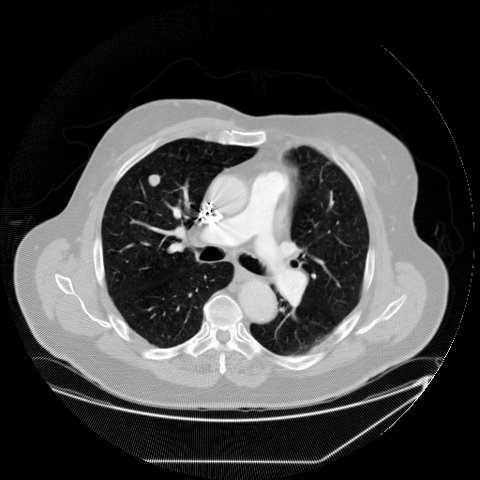nodule: (147, 174, 159, 186)
